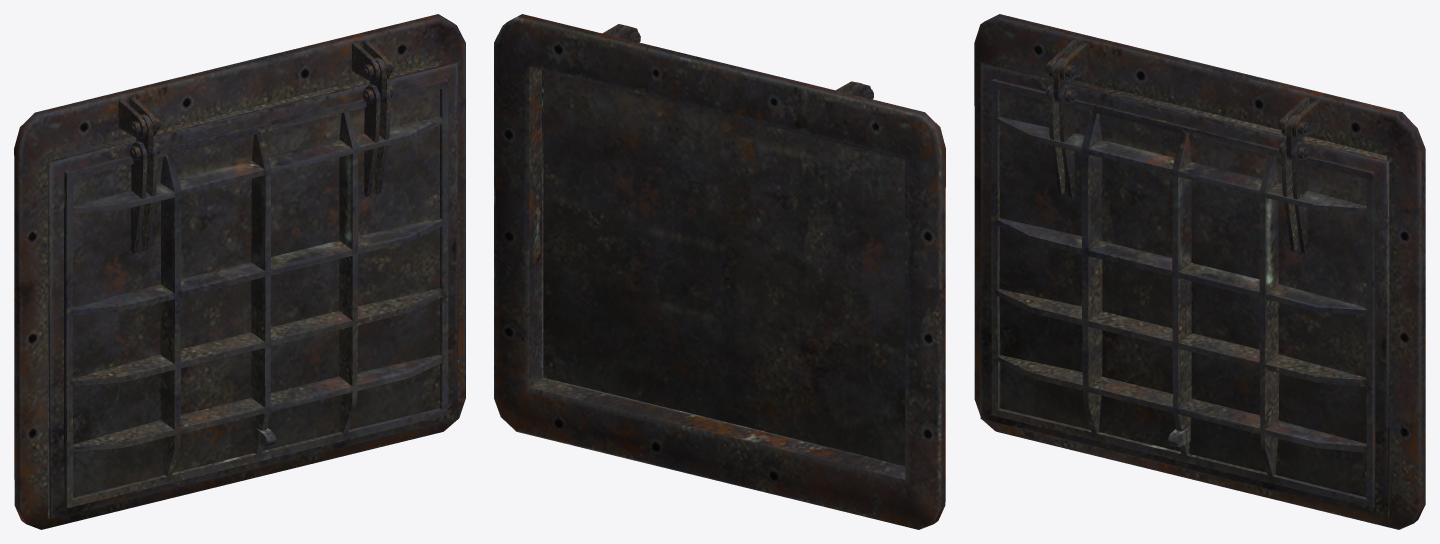
The model's file is sm22_044_squarefloodgate01a.fbx.
3 renders of one model, left to right at view 1: azimuth 30°, elevation 25°; view 2: azimuth 150°, elevation 25°; view 3: azimuth 330°, elevation 25°, orthographic.
Visible parts, largest first — view 1: LOD_1_Group_0_Sub_1__sm22_044_SquareFloodGate01A_A_Mat; view 2: LOD_1_Group_0_Sub_1__sm22_044_SquareFloodGate01A_A_Mat; view 3: LOD_1_Group_0_Sub_1__sm22_044_SquareFloodGate01A_A_Mat.
Part boxes in pixels (x1=…): LOD_1_Group_0_Sub_1__sm22_044_SquareFloodGate01A_A_Mat: x1=14, y1=14, x2=465, y2=529; LOD_1_Group_0_Sub_1__sm22_044_SquareFloodGate01A_A_Mat: x1=494, y1=14, x2=945, y2=529; LOD_1_Group_0_Sub_1__sm22_044_SquareFloodGate01A_A_Mat: x1=974, y1=14, x2=1425, y2=529.
Size of the model in its own units: 3.54 by 3.14 by 0.4449.
